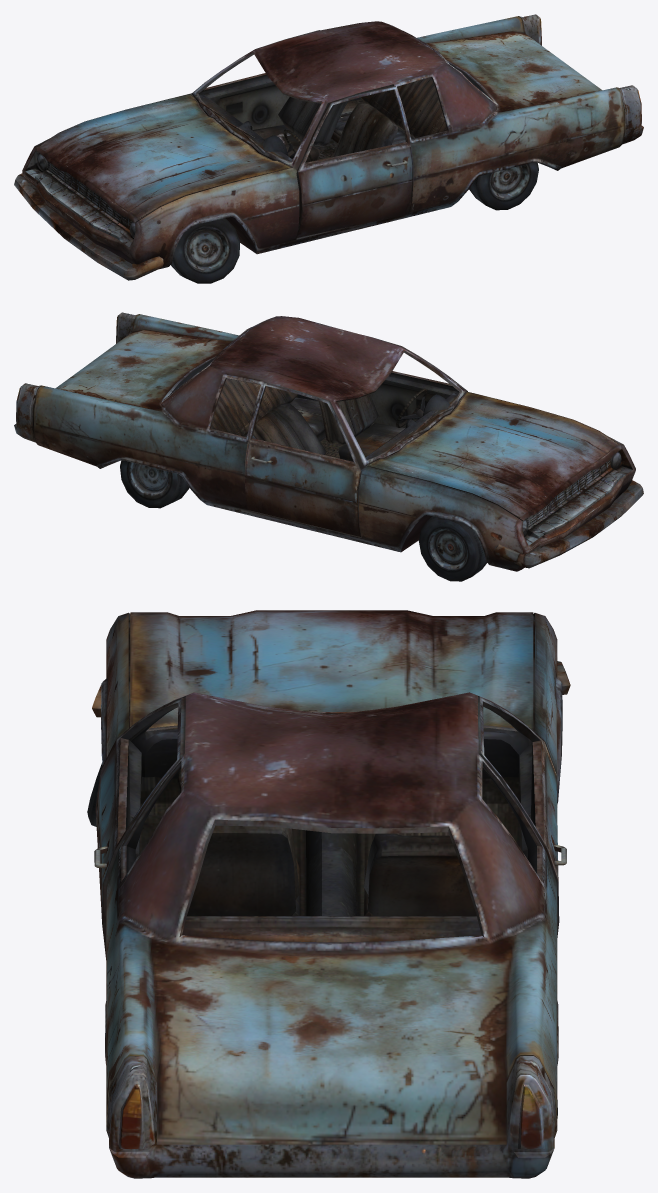
The model's file is RustyCar00a.FBX.
3 views of the same model, one above another, from view 1: azimuth 30°, elevation 25°; view 2: azimuth 150°, elevation 25°; view 3: azimuth 270°, elevation 25° (orthographic). The views are drawn at different scales.
Parts seen in each view (by area): view 1: RustyCar00a; view 2: RustyCar00a; view 3: RustyCar00a.
Part boxes in pixels (bbox=[...]): RustyCar00a: bbox=[14, 14, 643, 283]; RustyCar00a: bbox=[14, 312, 643, 581]; RustyCar00a: bbox=[87, 610, 570, 1178].
Bounding box in the file's own units: 295 × 75.91 × 117.
